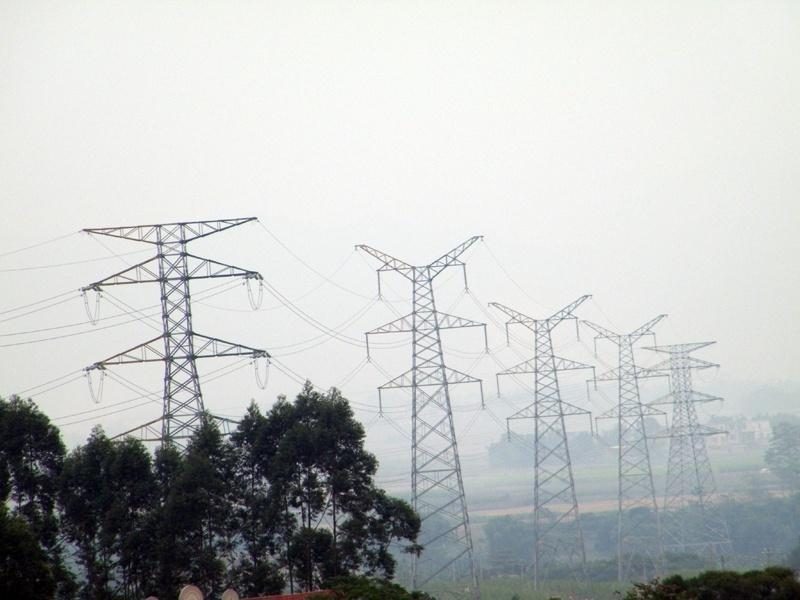power_tower: (356, 235, 484, 600), (78, 216, 270, 447), (487, 293, 597, 590), (582, 313, 668, 585), (642, 342, 736, 574)
